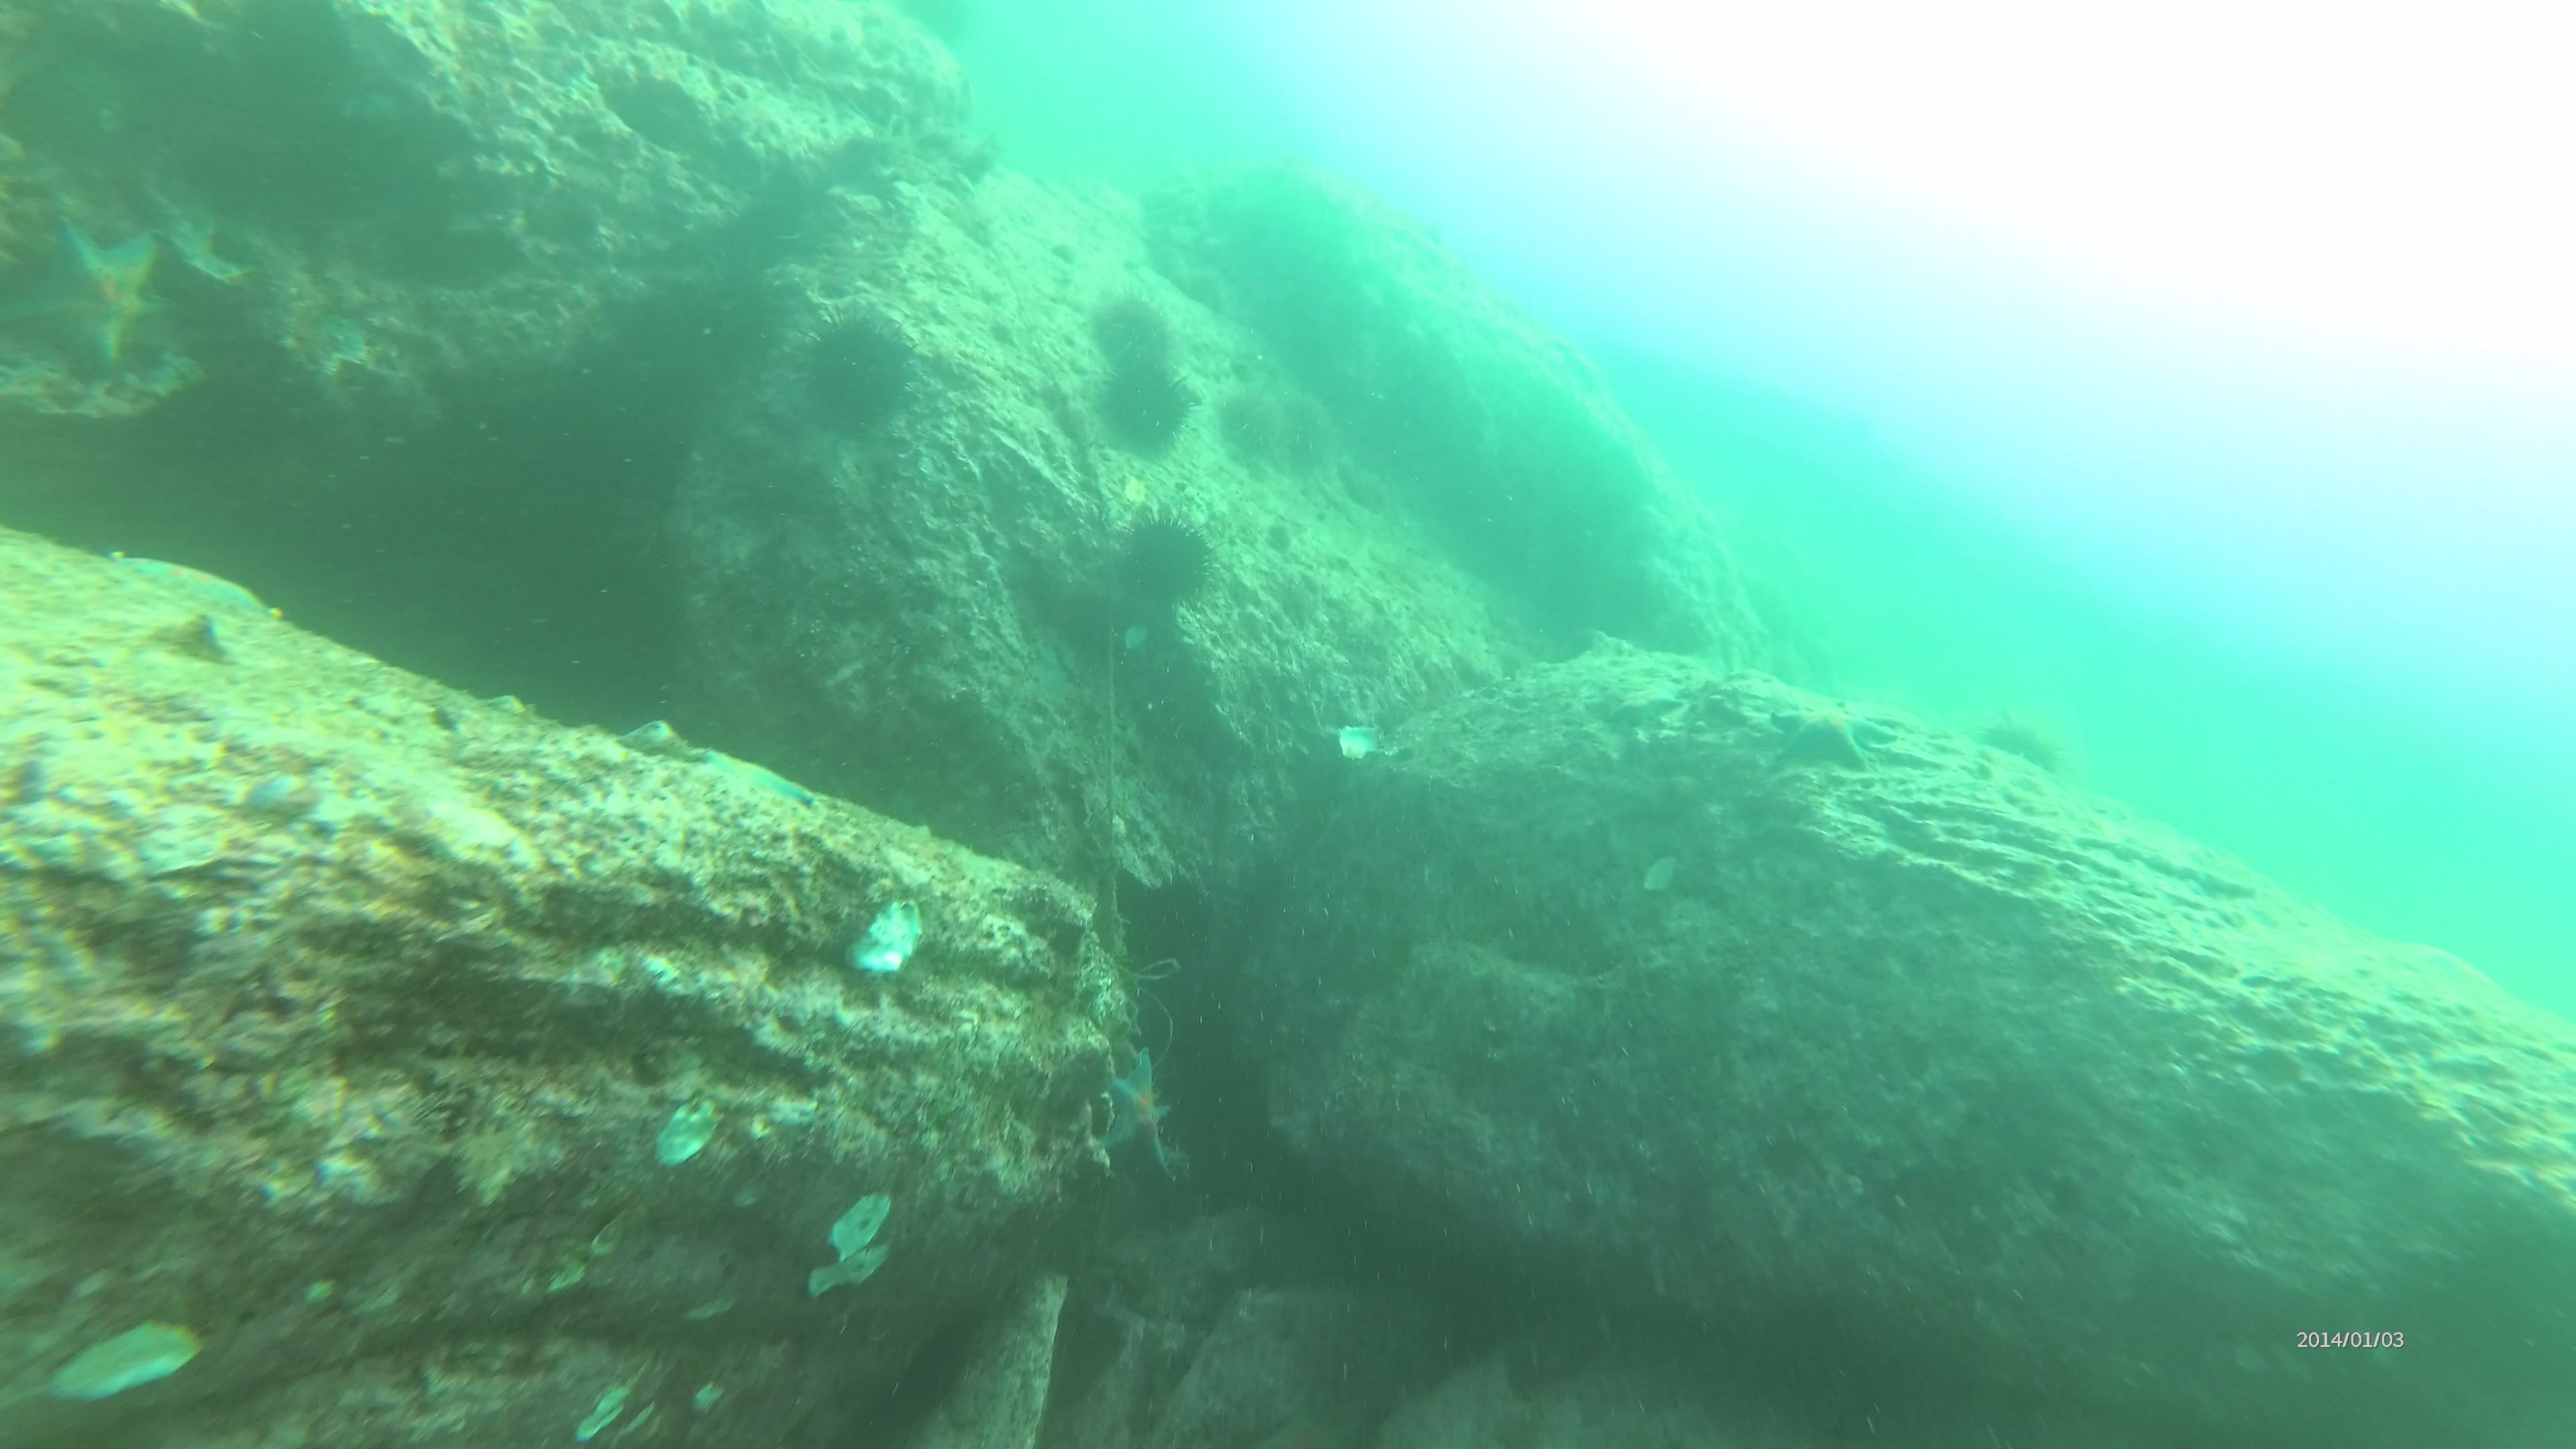echinus: (791, 294, 927, 432), (1115, 502, 1219, 602), (1099, 366, 1200, 451), (1102, 287, 1177, 366), (1228, 384, 1284, 467)
starfish: (12, 207, 180, 375), (122, 541, 278, 633), (1100, 1039, 1191, 1191), (1776, 686, 1893, 777)
